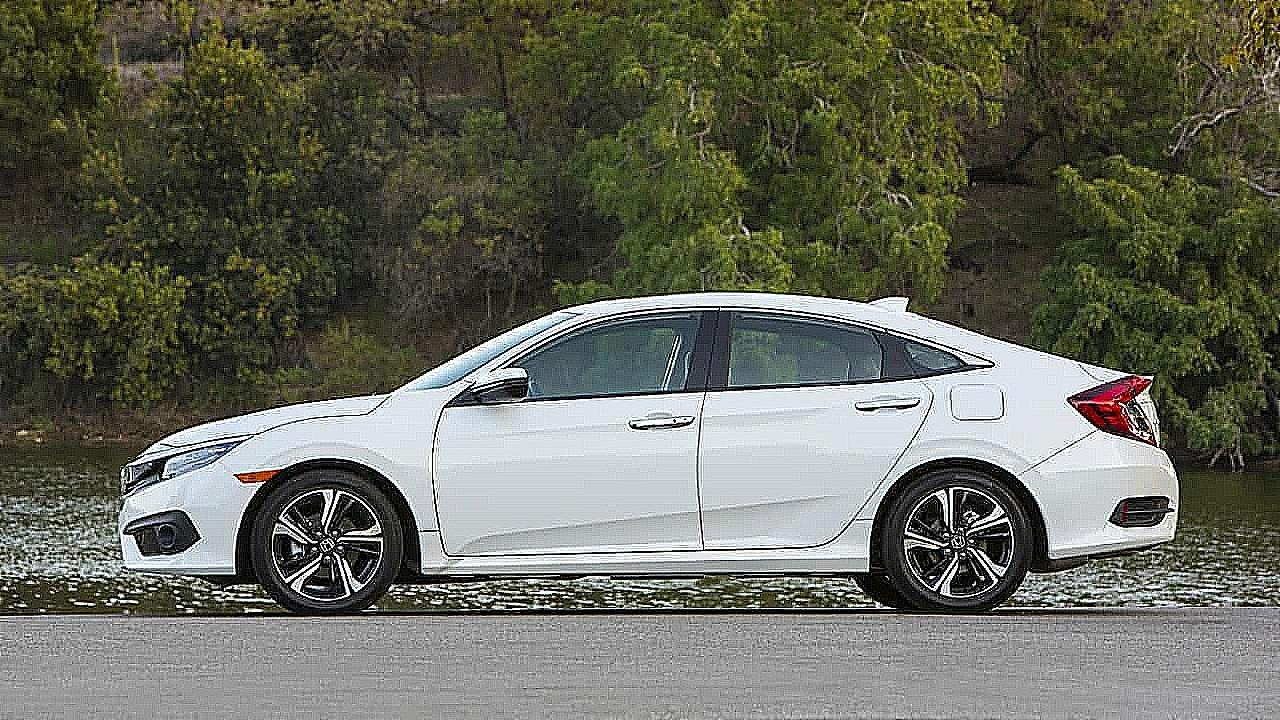Car hood: (154, 389, 390, 451)
Fender - -F-L-: (217, 373, 479, 537)
Fender - -R-L-: (849, 369, 1095, 523)
Front bumper: (112, 462, 251, 583)
Headlight - -L-: (112, 434, 247, 502)
Passenger-s door - -F-L-: (433, 302, 720, 565)
Passenger-s door - -R-L-: (698, 301, 937, 563)
Rear bumper: (1017, 429, 1189, 574)
Rear light - -L-: (1057, 364, 1168, 452)
Side bumper - -L-: (406, 516, 878, 581)
Side mirror - -L-: (463, 361, 539, 412)
